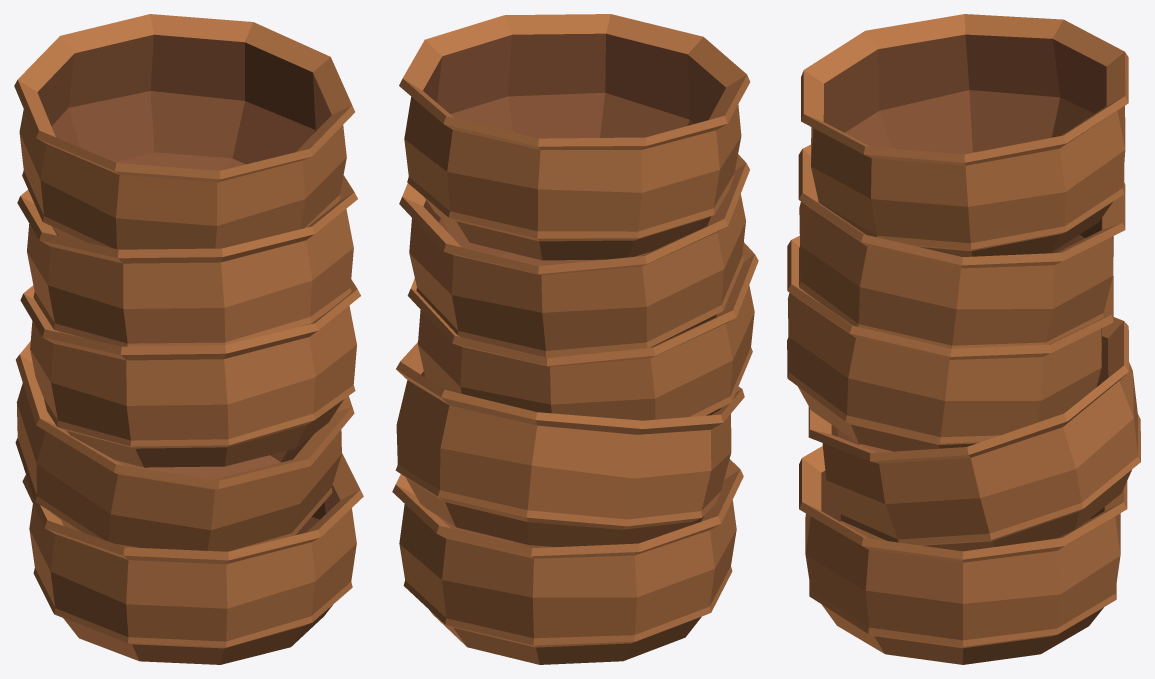
Rendered from SM_Prop_Copper_Bowl_Large_Stack_01.fbx.
3 renders of one model, left to right at view 1: azimuth 30°, elevation 25°; view 2: azimuth 150°, elevation 25°; view 3: azimuth 270°, elevation 25°, orthographic. The views are drawn at different scales.
Visible parts, largest first — view 1: SM_Prop_Copper_Bowl_Large_Stack_01; view 2: SM_Prop_Copper_Bowl_Large_Stack_01; view 3: SM_Prop_Copper_Bowl_Large_Stack_01.
Boxes of the visible parts, box(x1,y1,x2,y2) form: SM_Prop_Copper_Bowl_Large_Stack_01: box(14, 14, 363, 664); SM_Prop_Copper_Bowl_Large_Stack_01: box(392, 14, 758, 664); SM_Prop_Copper_Bowl_Large_Stack_01: box(787, 14, 1140, 664).
Size of the model in its own units: 139 by 234 by 139.
